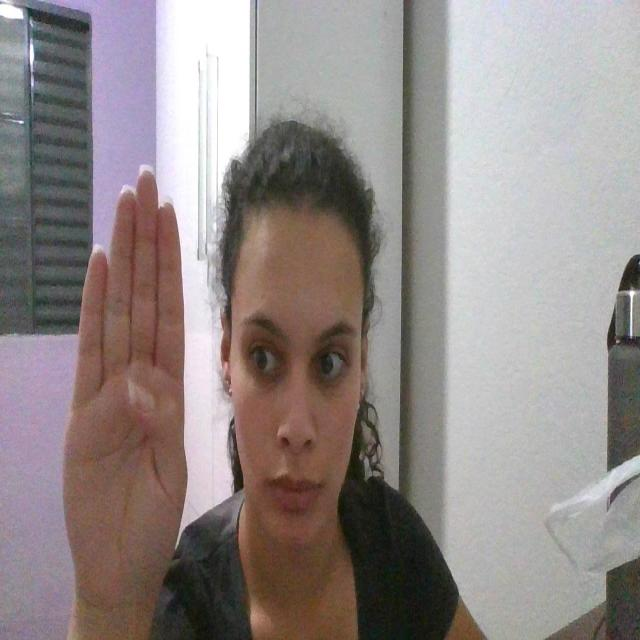B: (63, 156, 189, 604)
